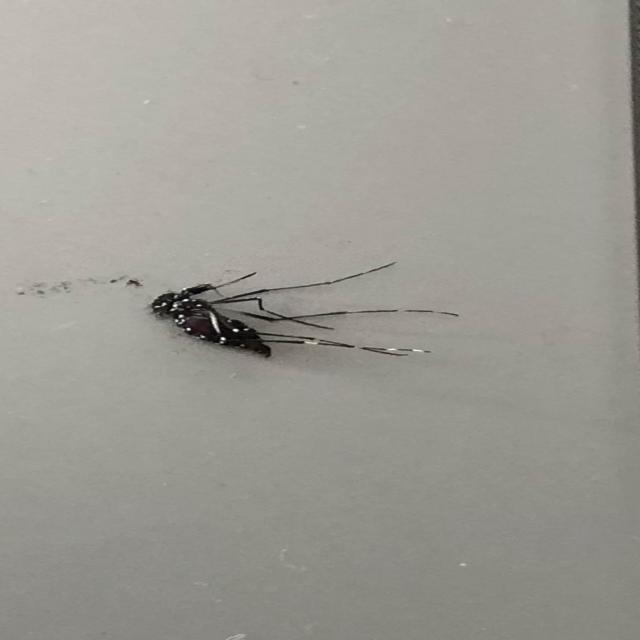albopictus: (107, 254, 454, 369)
